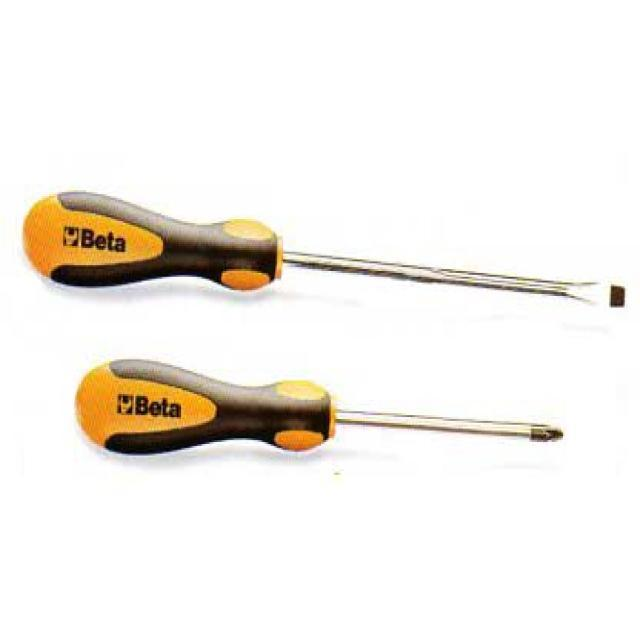screwdriver: (11, 155, 640, 340), (46, 346, 592, 492)
